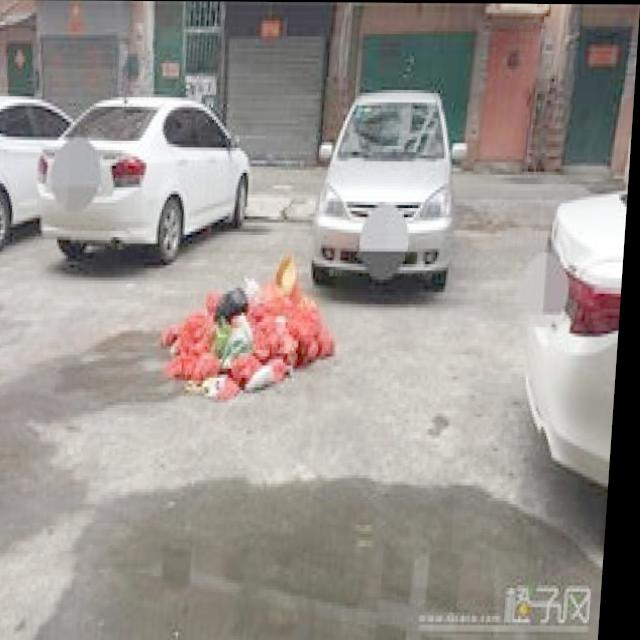garbage: (159, 250, 342, 397)
